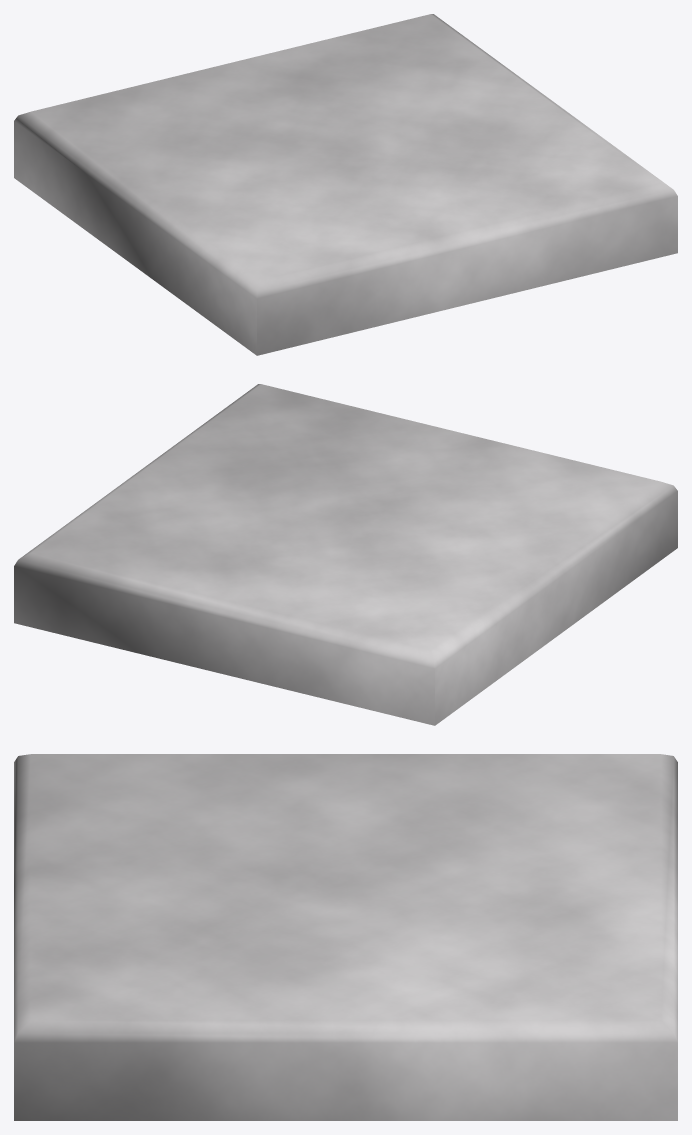
The model's file is Walkway.FBX.
3 renders of one model, top to bottom at view 1: azimuth 30°, elevation 25°; view 2: azimuth 150°, elevation 25°; view 3: azimuth 270°, elevation 25°, orthographic. The views are drawn at different scales.
Visible parts, largest first — view 1: Box001; view 2: Box001; view 3: Box001.
Boxes of the visible parts, x1,y1,x2,y2 form: Box001: (14,14,677,355); Box001: (14,384,677,725); Box001: (14,754,677,1120).
Size of the model in its own units: 39.37 by 6.1 by 39.37.
1 material, 1 textured.
